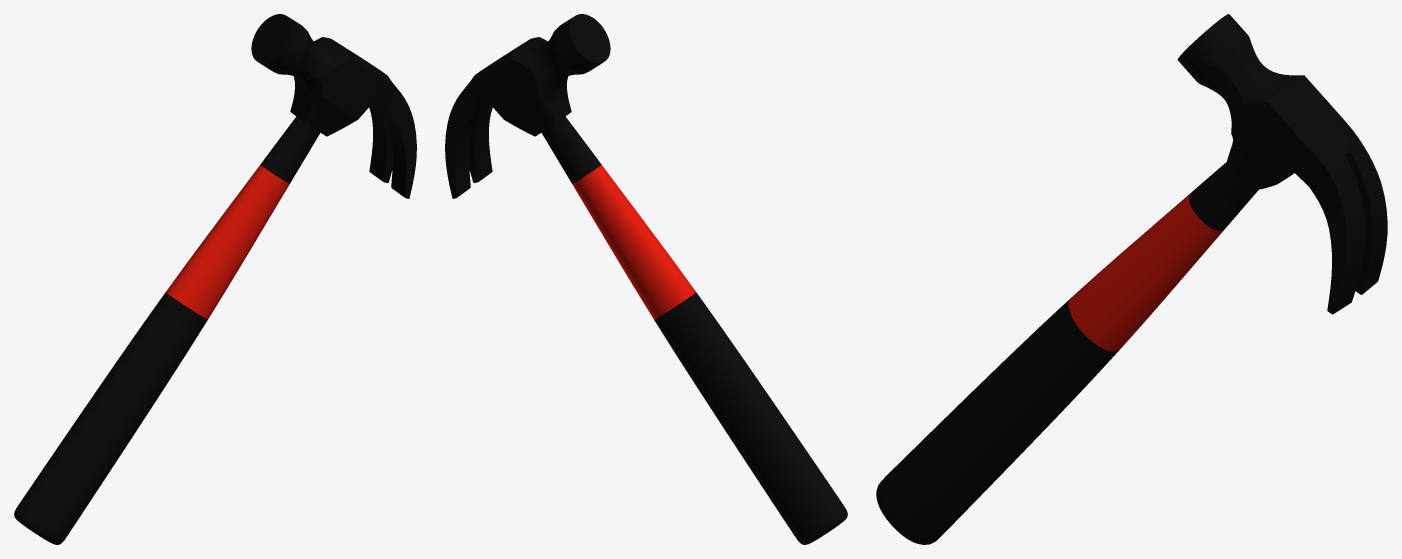
The model's file is hammer_wall.FBX.
The picture shows the model from 3 angles, left to right: view 1: azimuth 30°, elevation 25°; view 2: azimuth 150°, elevation 25°; view 3: azimuth 330°, elevation 25°; orthographic projection. The views are drawn at different scales.
Parts seen in each view (by area): view 1: hammer1; view 2: hammer1; view 3: hammer1.
Part boxes in pixels (x1,y1,x2,y2): hammer1: (14, 14, 416, 544); hammer1: (445, 14, 847, 544); hammer1: (876, 14, 1387, 544).
Size of the model in its own units: 6.89 by 8.03 by 1.11.
